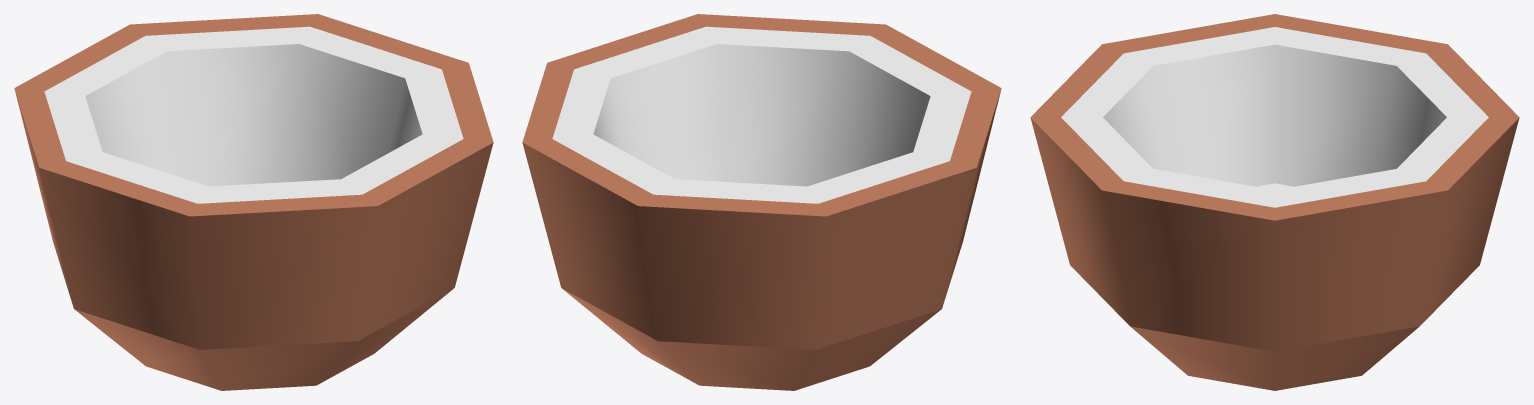
Rendered from coconut.glb.
The picture shows the model from 3 angles, left to right: view 1: azimuth 30°, elevation 25°; view 2: azimuth 150°, elevation 25°; view 3: azimuth 270°, elevation 25°; orthographic projection.
Visible parts, largest first — view 1: coconutHalf; view 2: coconutHalf; view 3: coconutHalf.
Part boxes in pixels (x1,y1,x2,y2): coconutHalf: (14,14,493,390); coconutHalf: (522,14,1001,390); coconutHalf: (1030,14,1519,390).
Bounding box in the file's own units: 0.2484 × 0.1242 × 0.2484.
